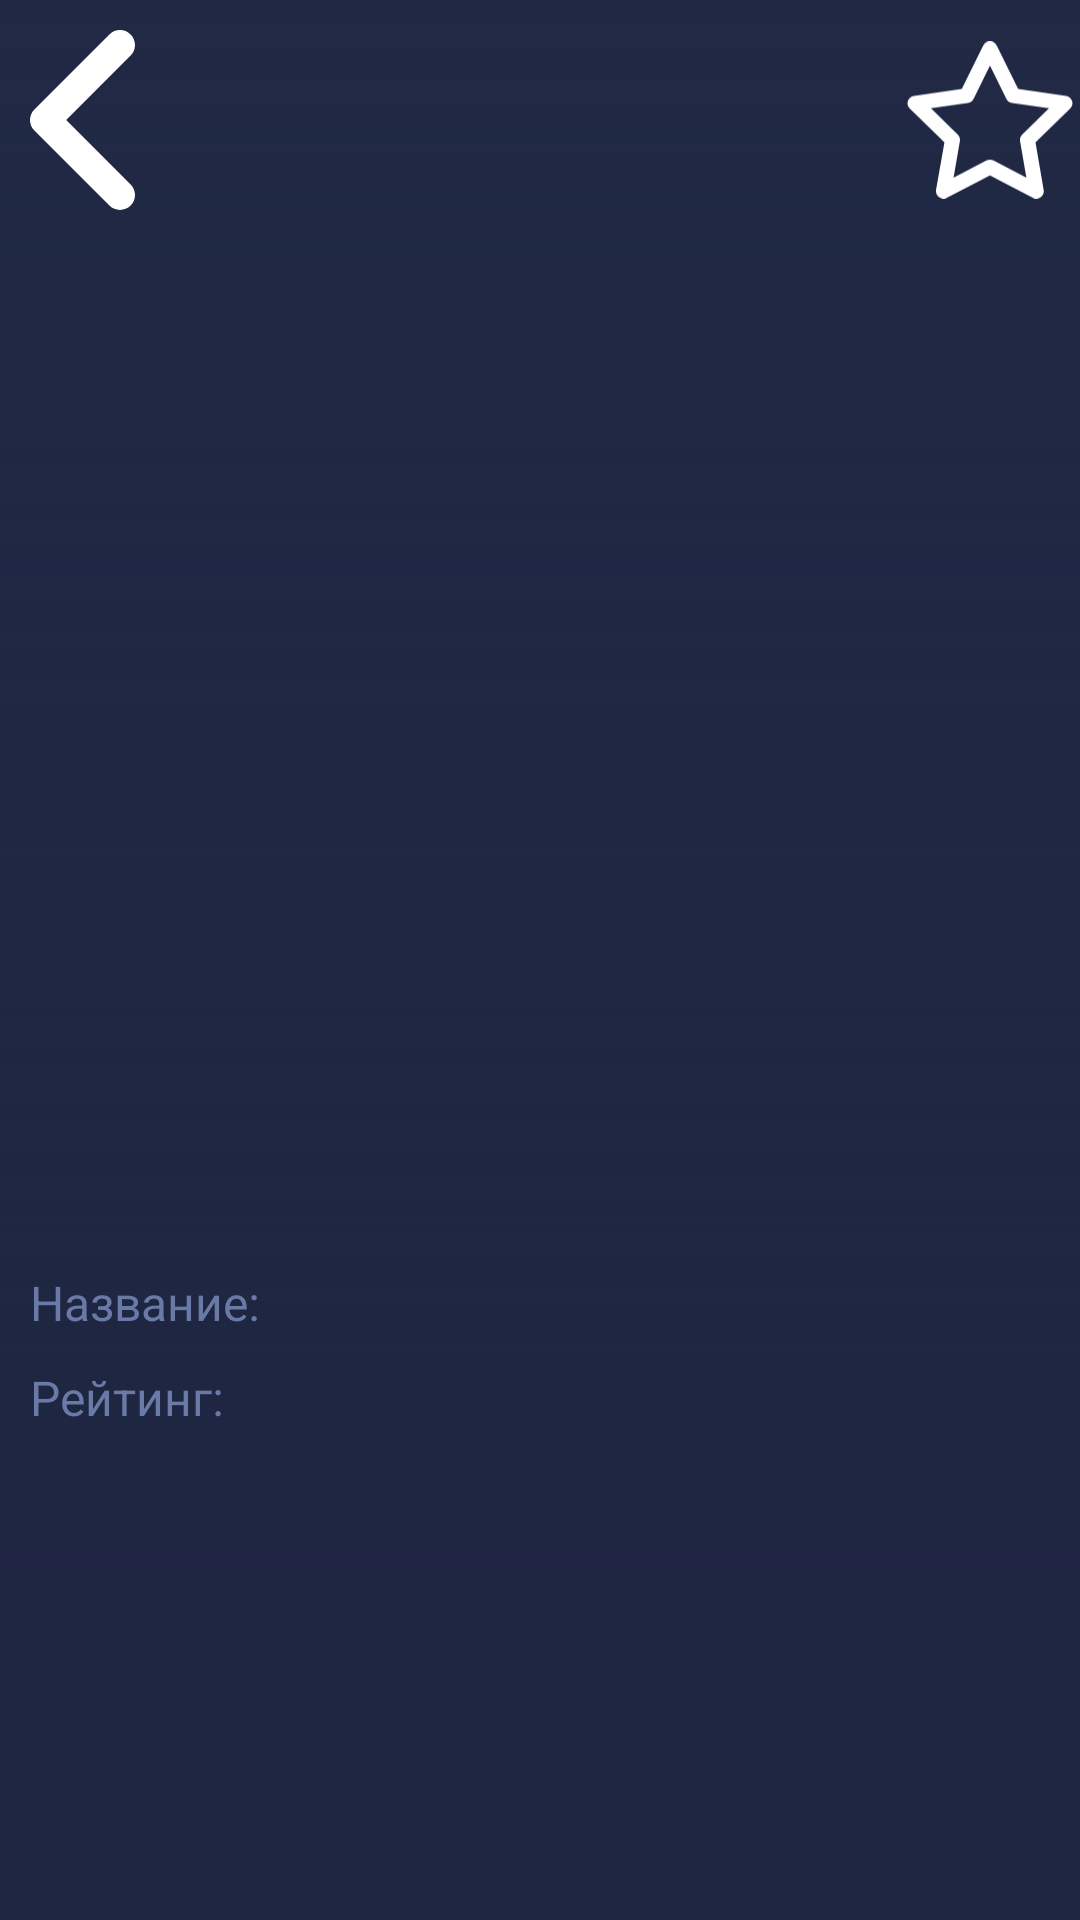

Icon bounding boxes for this 1080w x 1920h phone screenshot, format (x1, y1, x2, y2):
left: (30, 30, 135, 210)
star passive: (907, 41, 1073, 199)
